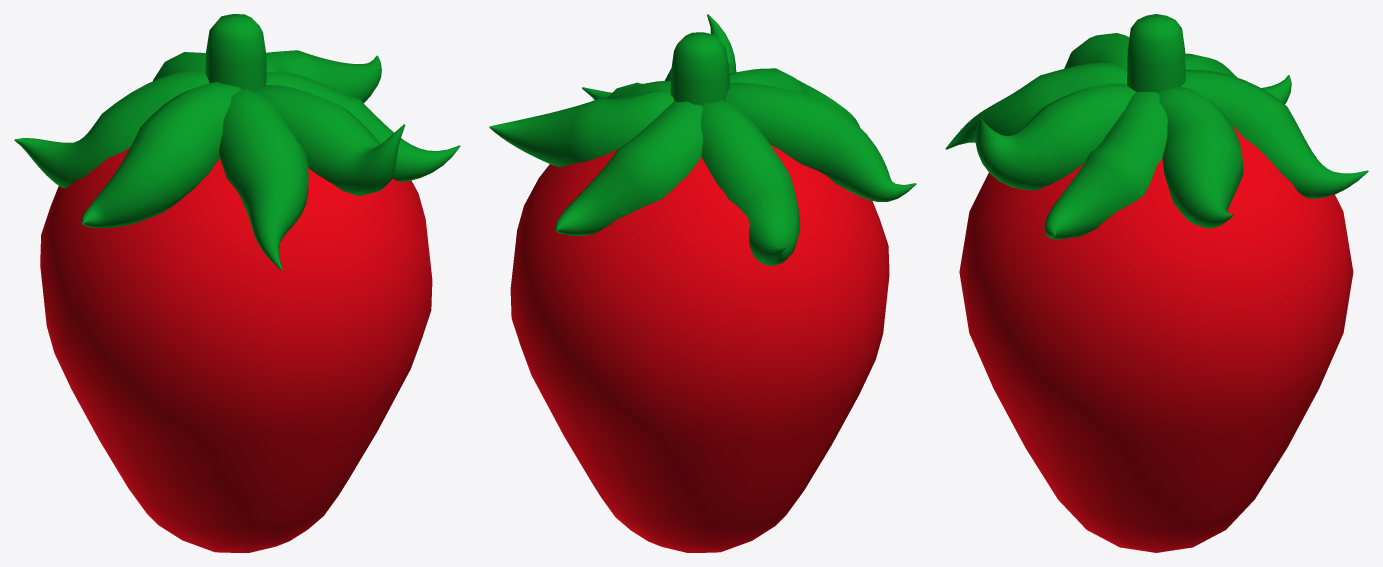
File: food_strawberry_250326.fbx
3 renders of one model, left to right at view 1: azimuth 30°, elevation 25°; view 2: azimuth 150°, elevation 25°; view 3: azimuth 270°, elevation 25°, orthographic. The views are drawn at different scales.
Visible parts, largest first — view 1: food_strawberry; view 2: food_strawberry; view 3: food_strawberry.
Boxes of the visible parts, x1=… form: food_strawberry: x1=14, y1=14, x2=460, y2=552; food_strawberry: x1=489, y1=14, x2=916, y2=552; food_strawberry: x1=945, y1=14, x2=1368, y2=552.
Bounding box in the file's own units: 28.82 × 39.21 × 28.74.
